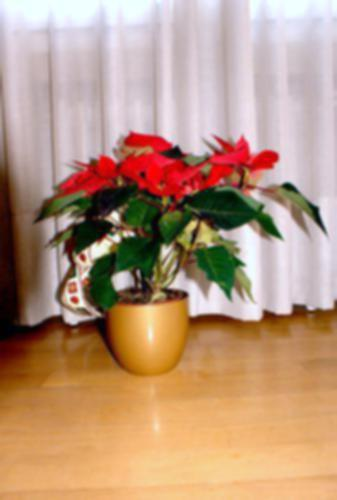Matera: (34, 110, 299, 387)
